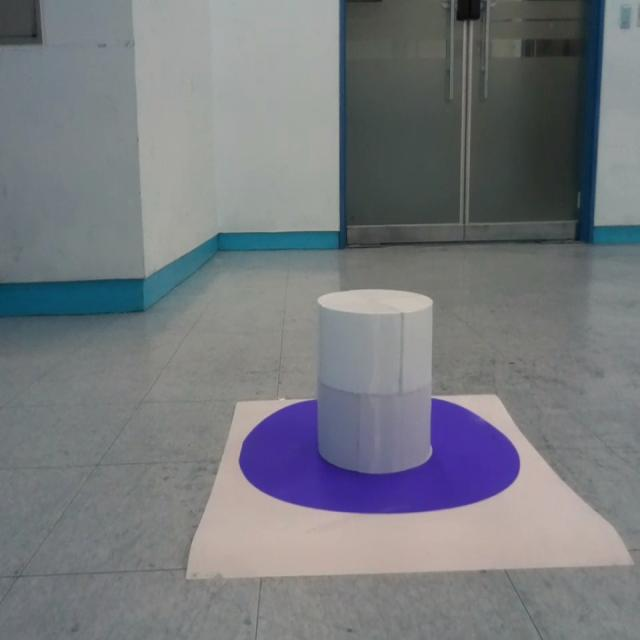cylinder: (316, 288, 434, 472)
